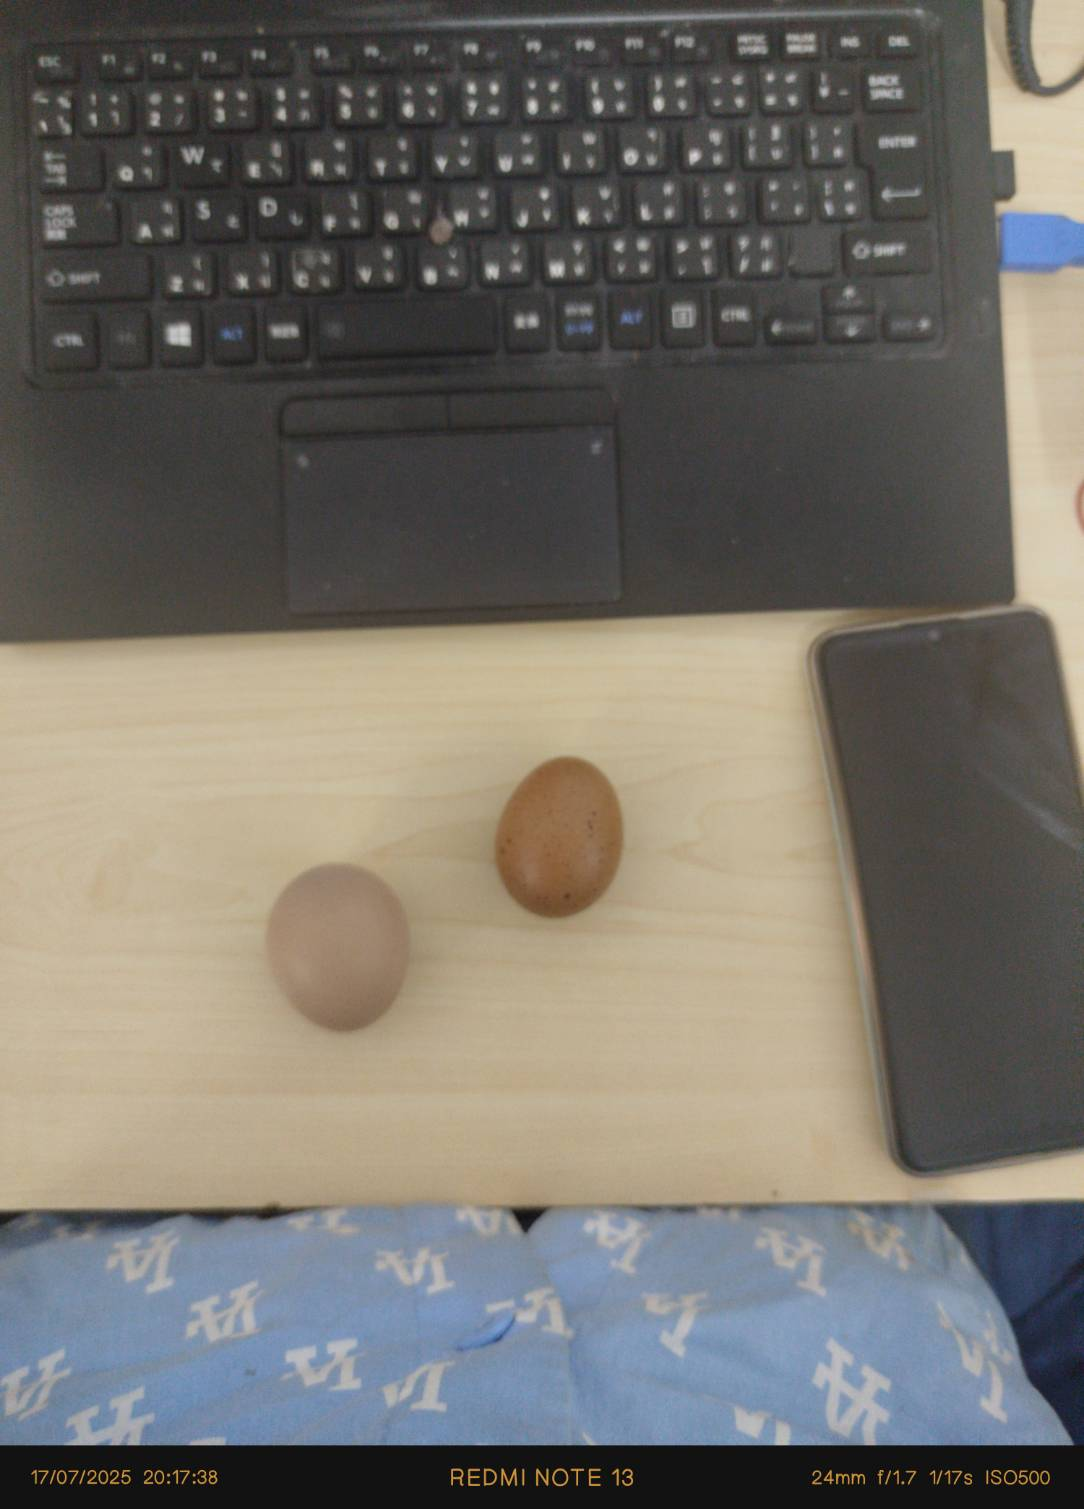egg3: (248, 862, 420, 1039)
egg4: (480, 745, 630, 928)
